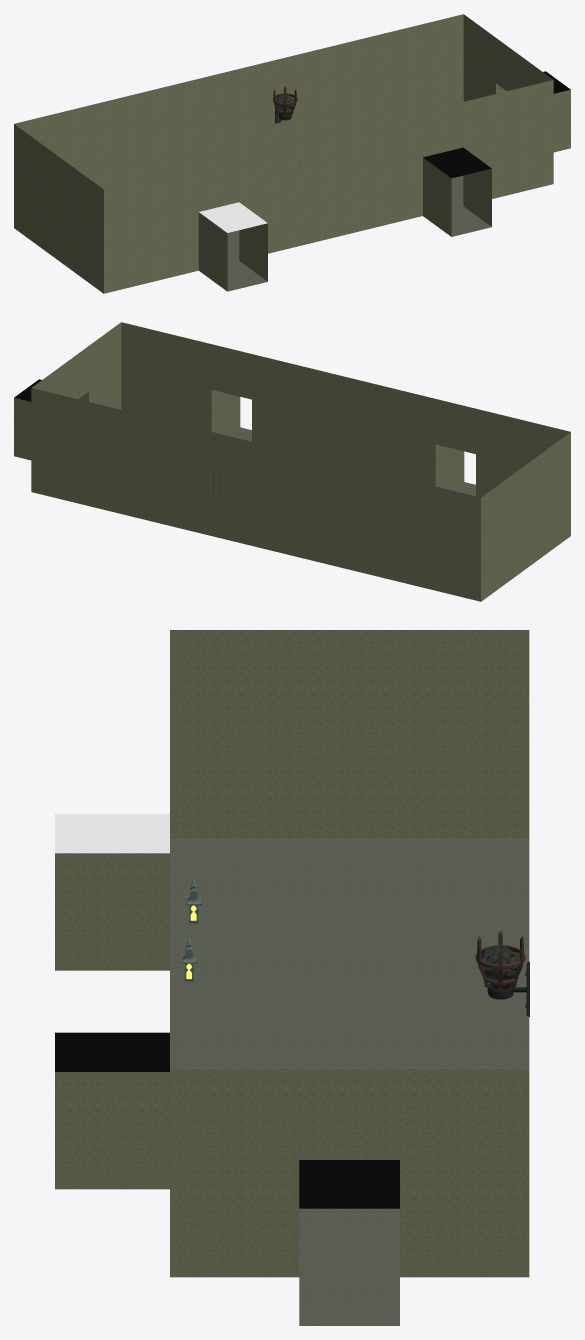
File: 03_HuntingLevel2.fbx
3 renders of one model, top to bottom at view 1: azimuth 30°, elevation 25°; view 2: azimuth 150°, elevation 25°; view 3: azimuth 270°, elevation 25°, orthographic. The views are drawn at different scales.
Visible parts, largest first — view 1: ROOM_Left; view 2: ROOM_Left; view 3: ROOM_Left.
Boxes of the visible parts, x1,y1,x2,y2 form: ROOM_Left: (14,14,570,293); ROOM_Left: (14,322,570,601); ROOM_Left: (55,630,529,1325).
Bounding box in the file's own units: 8025 × 1600 × 3305.
